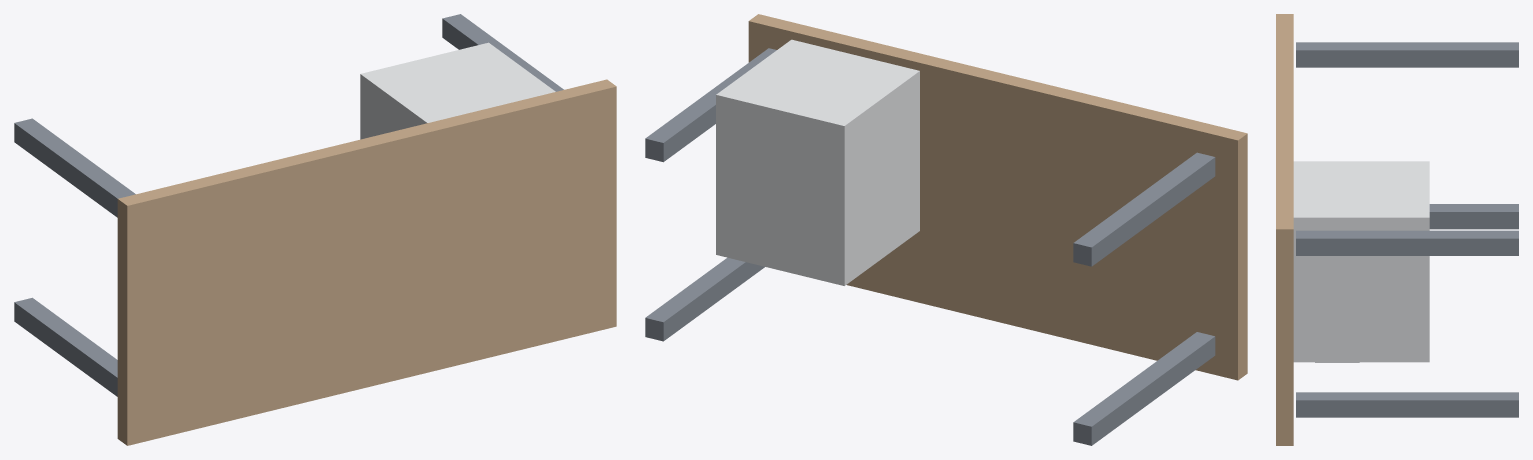
Rendered from SM_Desk_Designer_POC.glb.
The picture shows the model from 3 angles, left to right: view 1: azimuth 30°, elevation 25°; view 2: azimuth 150°, elevation 25°; view 3: azimuth 270°, elevation 25°; orthographic projection. The views are drawn at different scales.
Visible parts, largest first — view 1: SM_Desk_Designer_POC_00, SM_Desk_Designer_POC_05, SM_Desk_Designer_POC_03, SM_Desk_Designer_POC_01, SM_Desk_Designer_POC_04; view 2: SM_Desk_Designer_POC_00, SM_Desk_Designer_POC_05, SM_Desk_Designer_POC_03, SM_Desk_Designer_POC_01, SM_Desk_Designer_POC_02, SM_Desk_Designer_POC_04; view 3: SM_Desk_Designer_POC_05, SM_Desk_Designer_POC_00, SM_Desk_Designer_POC_02, SM_Desk_Designer_POC_03, SM_Desk_Designer_POC_04, SM_Desk_Designer_POC_01.
Boxes of the visible parts, x1=… form: SM_Desk_Designer_POC_00: x1=117, y1=79, x2=616, y2=445; SM_Desk_Designer_POC_05: x1=360, y1=42, x2=555, y2=139; SM_Desk_Designer_POC_03: x1=14, y1=118, x2=135, y2=217; SM_Desk_Designer_POC_01: x1=14, y1=297, x2=117, y2=396; SM_Desk_Designer_POC_04: x1=442, y1=14, x2=563, y2=91; SM_Desk_Designer_POC_00: x1=748, y1=14, x2=1247, y2=380; SM_Desk_Designer_POC_05: x1=716, y1=39, x2=919, y2=285; SM_Desk_Designer_POC_03: x1=1073, y1=152, x2=1215, y2=266; SM_Desk_Designer_POC_01: x1=1073, y1=332, x2=1215, y2=445; SM_Desk_Designer_POC_02: x1=645, y1=257, x2=764, y2=341; SM_Desk_Designer_POC_04: x1=645, y1=48, x2=776, y2=162; SM_Desk_Designer_POC_05: x1=1293, y1=161, x2=1429, y2=362; SM_Desk_Designer_POC_00: x1=1276, y1=14, x2=1293, y2=445; SM_Desk_Designer_POC_02: x1=1296, y1=392, x2=1518, y2=417; SM_Desk_Designer_POC_03: x1=1296, y1=42, x2=1518, y2=67; SM_Desk_Designer_POC_04: x1=1296, y1=230, x2=1518, y2=255; SM_Desk_Designer_POC_01: x1=1429, y1=204, x2=1518, y2=229.
Bounding box in the file's own units: 1.6 × 0.75 × 0.7625.
